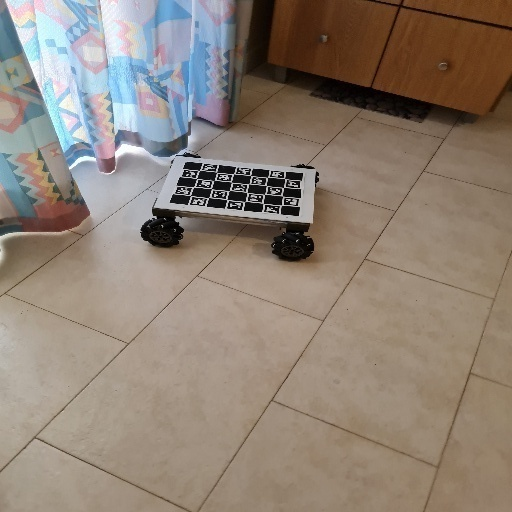Omniwheel: (139, 152, 323, 263)
